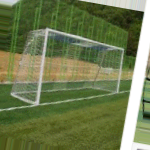goals: (11, 26, 127, 108)
